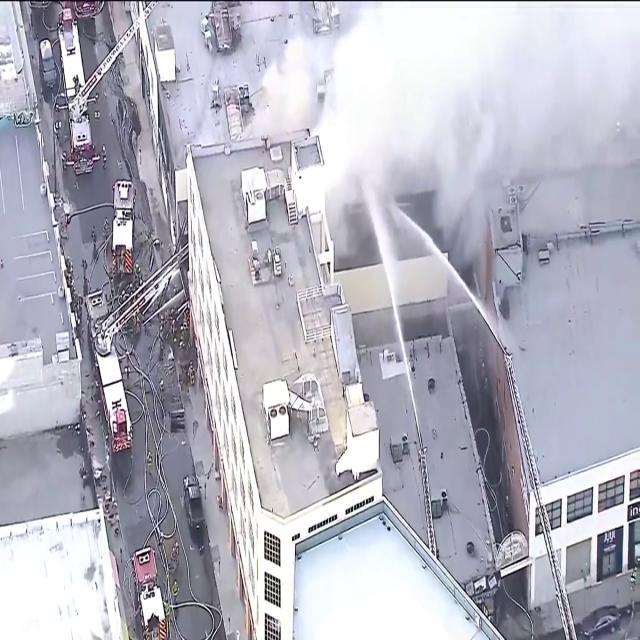Smoke: (316, 3, 540, 254)
